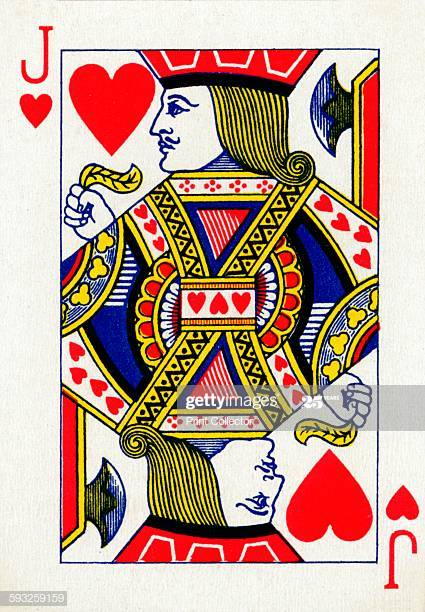jack of hearts: (6, 12, 420, 602)
